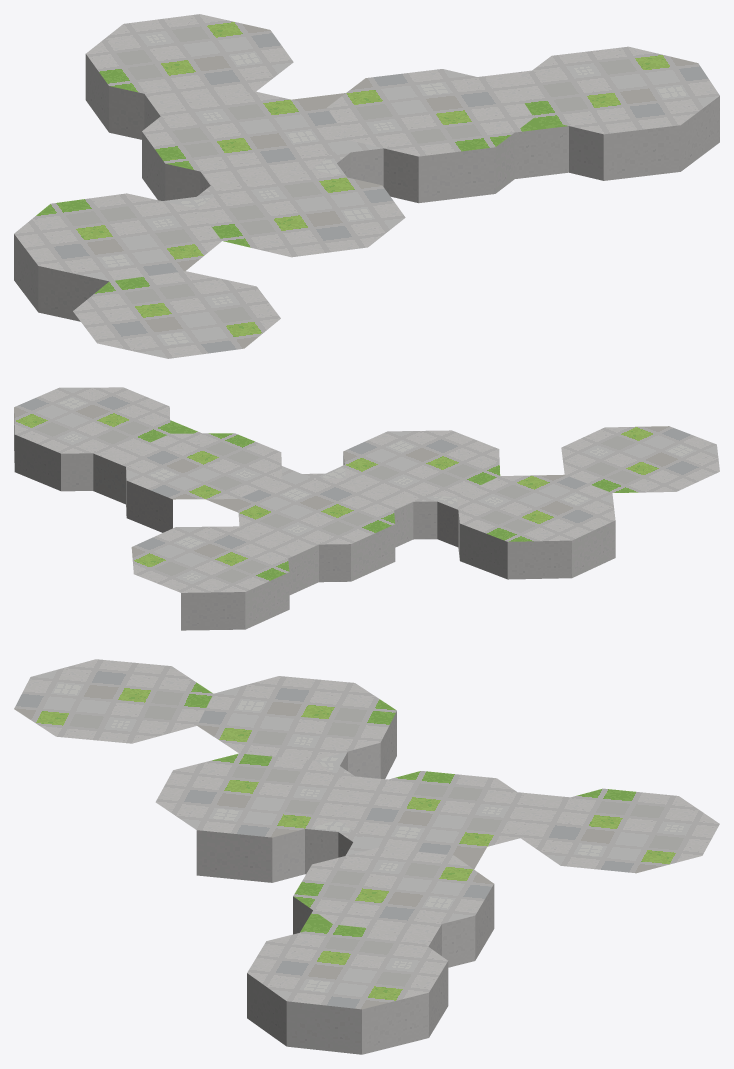
The model's file is kd_connection_world-outer_surface_5_1.glb.
The picture shows the model from 3 angles, top to bottom: view 1: azimuth 30°, elevation 25°; view 2: azimuth 150°, elevation 25°; view 3: azimuth 270°, elevation 25°; orthographic projection. The views are drawn at different scales.
Parts seen in each view (by area): view 1: kd_connection_world-outer_surface_5_1; view 2: kd_connection_world-outer_surface_5_1; view 3: kd_connection_world-outer_surface_5_1.
Part boxes in pixels (bbox=[...]): kd_connection_world-outer_surface_5_1: bbox=[14, 14, 719, 358]; kd_connection_world-outer_surface_5_1: bbox=[14, 387, 719, 630]; kd_connection_world-outer_surface_5_1: bbox=[14, 659, 719, 1054].
Size of the model in its own units: 608 by 36.74 by 518.
1 material, 1 textured.
